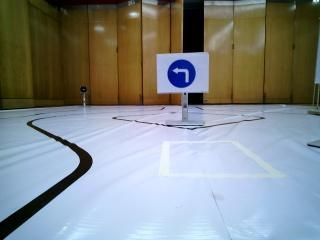left: (160, 57, 204, 89)
